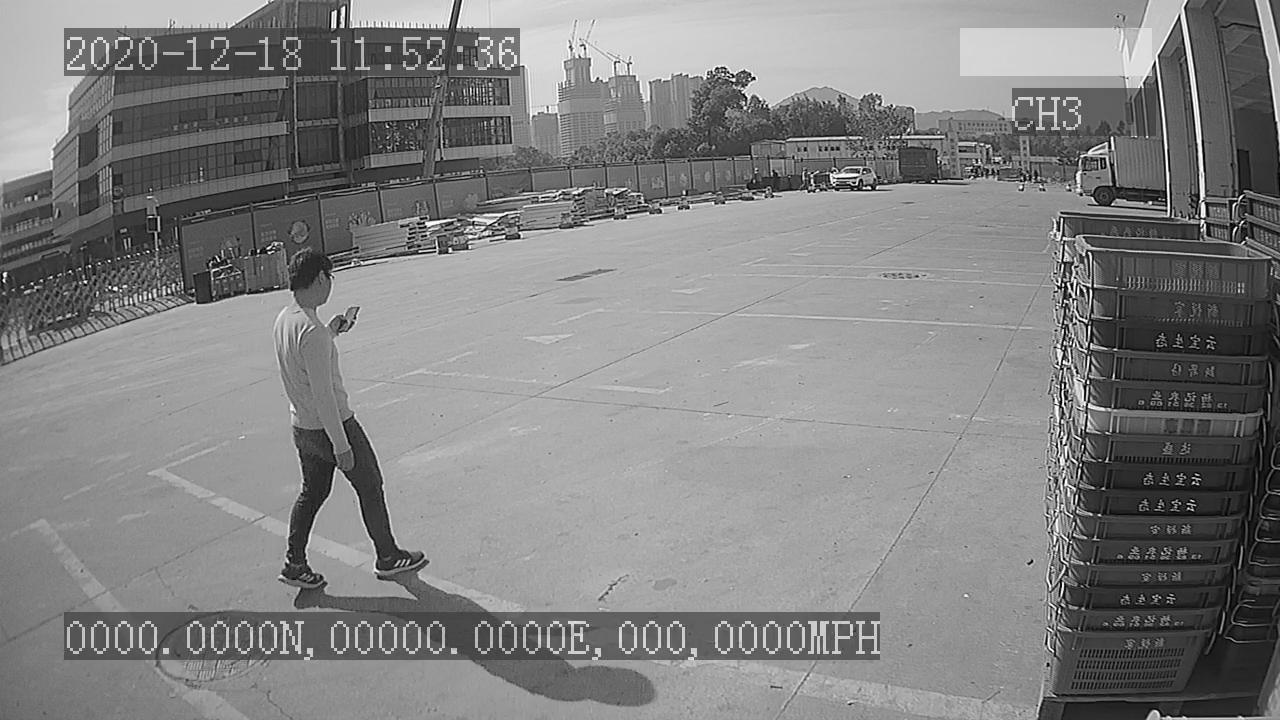person: (256, 235, 436, 594)
